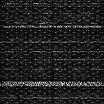lte: (1, 81, 104, 86), (1, 24, 104, 28)
